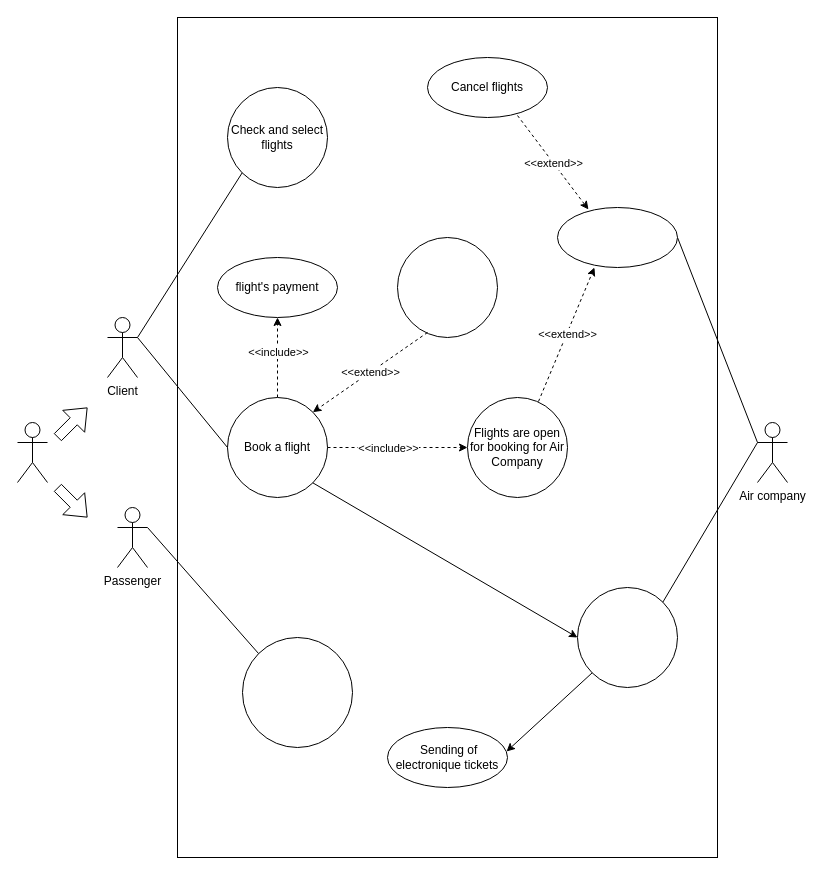
This 823x875 diagram has some shape labels left out. Each missing label, with the centre of its shape:
Cancel booking: the point at 447,287
Consult booking: the point at 297,692
Create flights: the point at 617,237
User: the point at 32,452
Validation of booking: the point at 627,637
